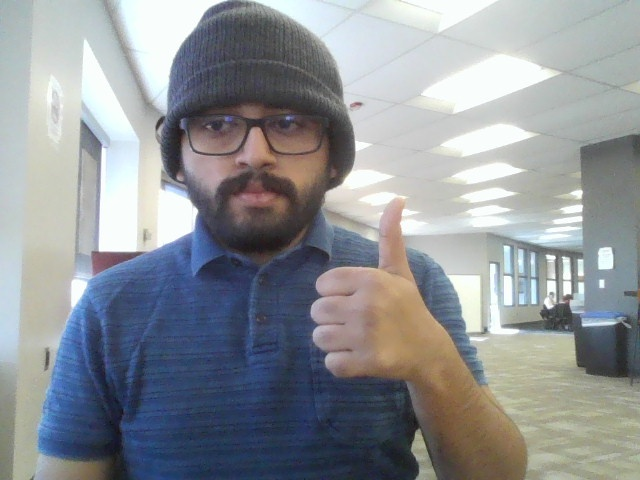start: (308, 188, 454, 394)
